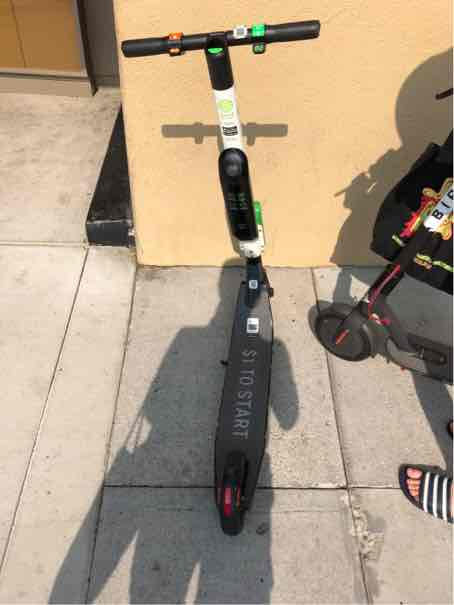scooter: (107, 16, 319, 546)
